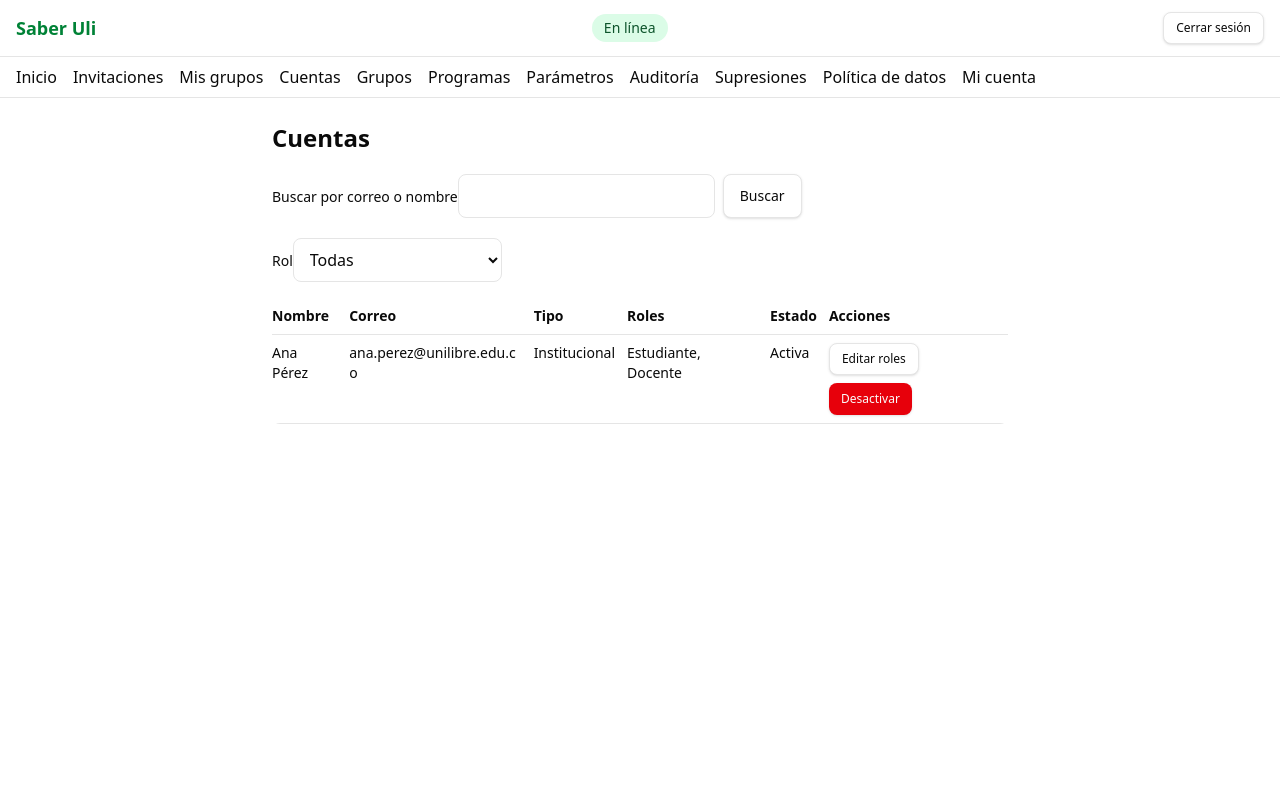
Test: cuentas › explica la regla del último administrador
The width and height of the screenshot is (1280, 800).
Click the button with aria-label "Editar roles de Ana Pérez": click(874, 359) [829,343,919,375]
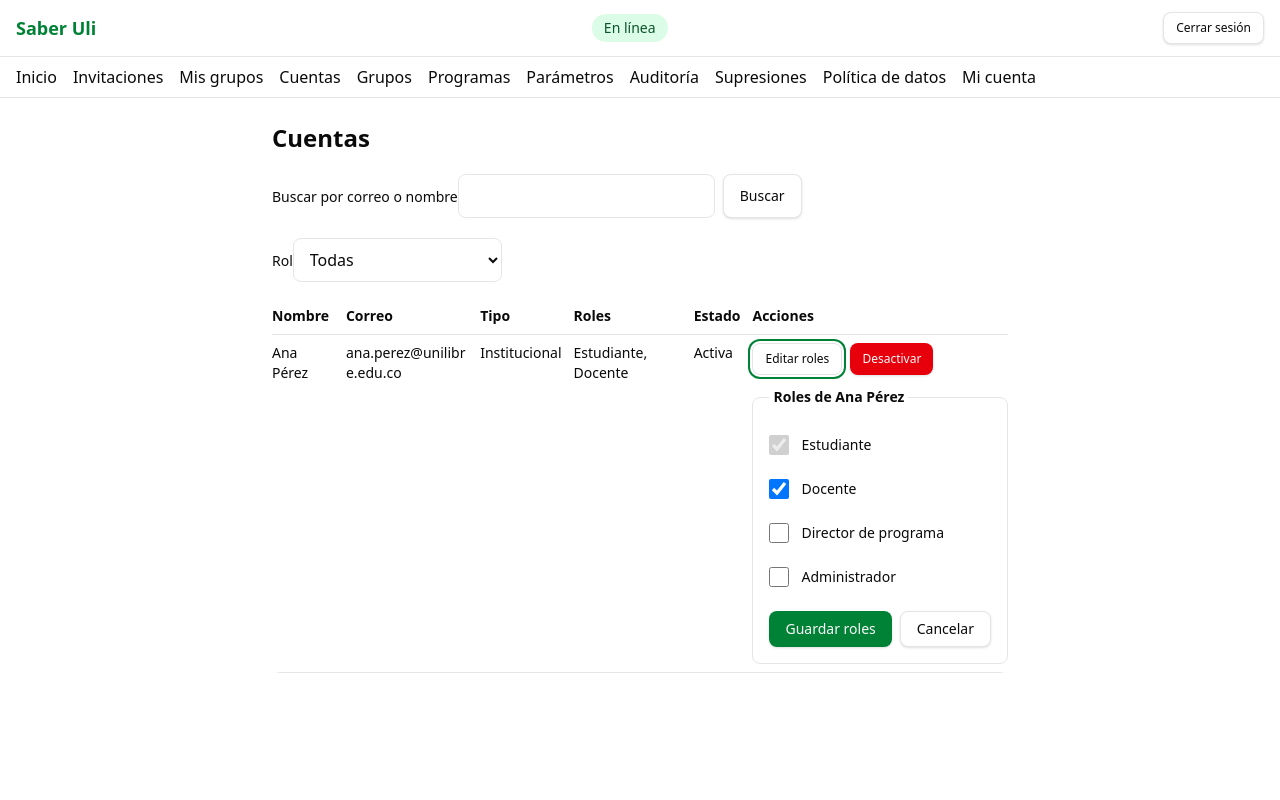
Click the button "Guardar roles": click(831, 629) [770,611,892,647]
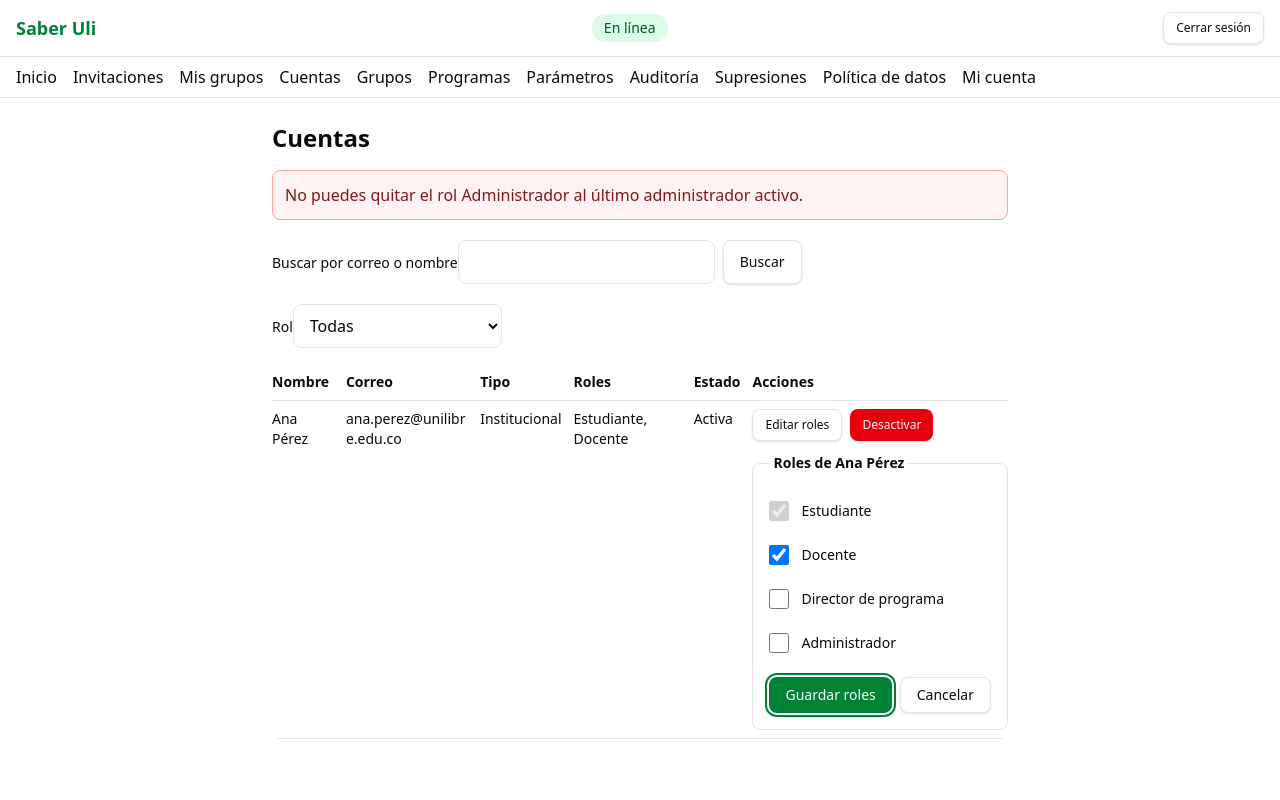
Expected: the message "No puedes quitar el rol Administrador al último administrador activo." is shown, [272,170,1008,220]
